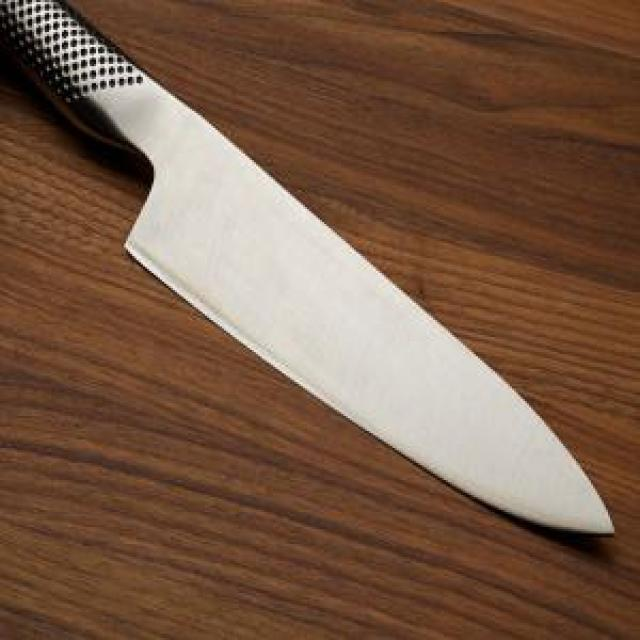knife: (0, 0, 618, 542)
